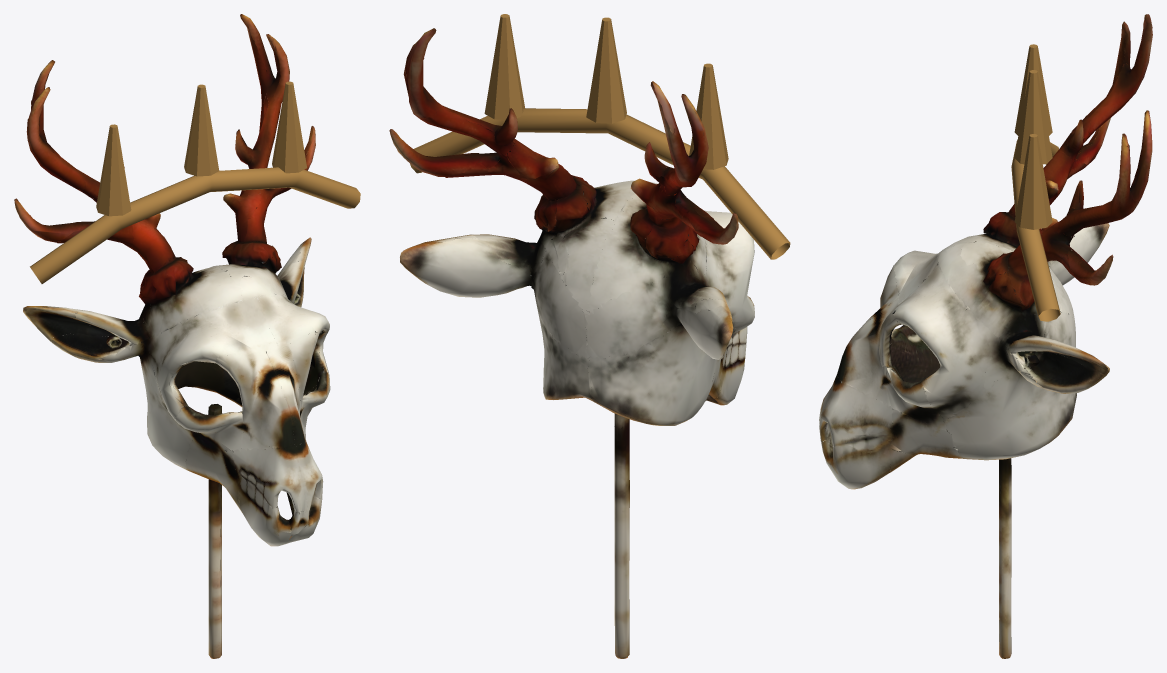
Rendered from mask-stag-crown.glb.
3 views of the same model, side by side, from view 1: azimuth 30°, elevation 25°; view 2: azimuth 150°, elevation 25°; view 3: azimuth 270°, elevation 25° (orthographic). The views are drawn at different scales.
Visible parts, largest first — view 1: Banquet_Mask_Stag_Crown_Mesh_01, Stag_Crown_Circlet, Stag_Crown_Point_+0.00, Stag_Crown_Point_-0.10, Stag_Crown_Point_+0.10; view 2: Banquet_Mask_Stag_Crown_Mesh_01, Stag_Crown_Circlet, Stag_Crown_Point_+0.00, Stag_Crown_Point_+0.10, Stag_Crown_Point_-0.10; view 3: Banquet_Mask_Stag_Crown_Mesh_01, Stag_Crown_Circlet, Stag_Crown_Point_+0.10, Stag_Crown_Point_+0.00, Stag_Crown_Point_-0.10.
Part boxes in pixels (x1=…): Banquet_Mask_Stag_Crown_Mesh_01: x1=14, y1=14, x2=330, y2=658; Stag_Crown_Circlet: x1=30, y1=167, x2=360, y2=283; Stag_Crown_Point_+0.00: x1=184, y1=84, x2=219, y2=176; Stag_Crown_Point_-0.10: x1=96, y1=124, x2=131, y2=216; Stag_Crown_Point_+0.10: x1=272, y1=81, x2=306, y2=173; Banquet_Mask_Stag_Crown_Mesh_01: x1=389, y1=28, x2=754, y2=658; Stag_Crown_Circlet: x1=410, y1=108, x2=790, y2=259; Stag_Crown_Point_+0.00: x1=586, y1=17, x2=626, y2=123; Stag_Crown_Point_+0.10: x1=484, y1=14, x2=524, y2=119; Stag_Crown_Point_-0.10: x1=689, y1=63, x2=728, y2=169; Banquet_Mask_Stag_Crown_Mesh_01: x1=819, y1=14, x2=1152, y2=658; Stag_Crown_Circlet: x1=1011, y1=140, x2=1060, y2=321; Stag_Crown_Point_+0.10: x1=1014, y1=134, x2=1052, y2=229; Stag_Crown_Point_+0.00: x1=1014, y1=70, x2=1052, y2=164; Stag_Crown_Point_-0.10: x1=1014, y1=44, x2=1052, y2=135.
Size of the model in its own units: 0.3716 by 0.62 by 0.3154.
Materials: 2 (1 with a texture image).
